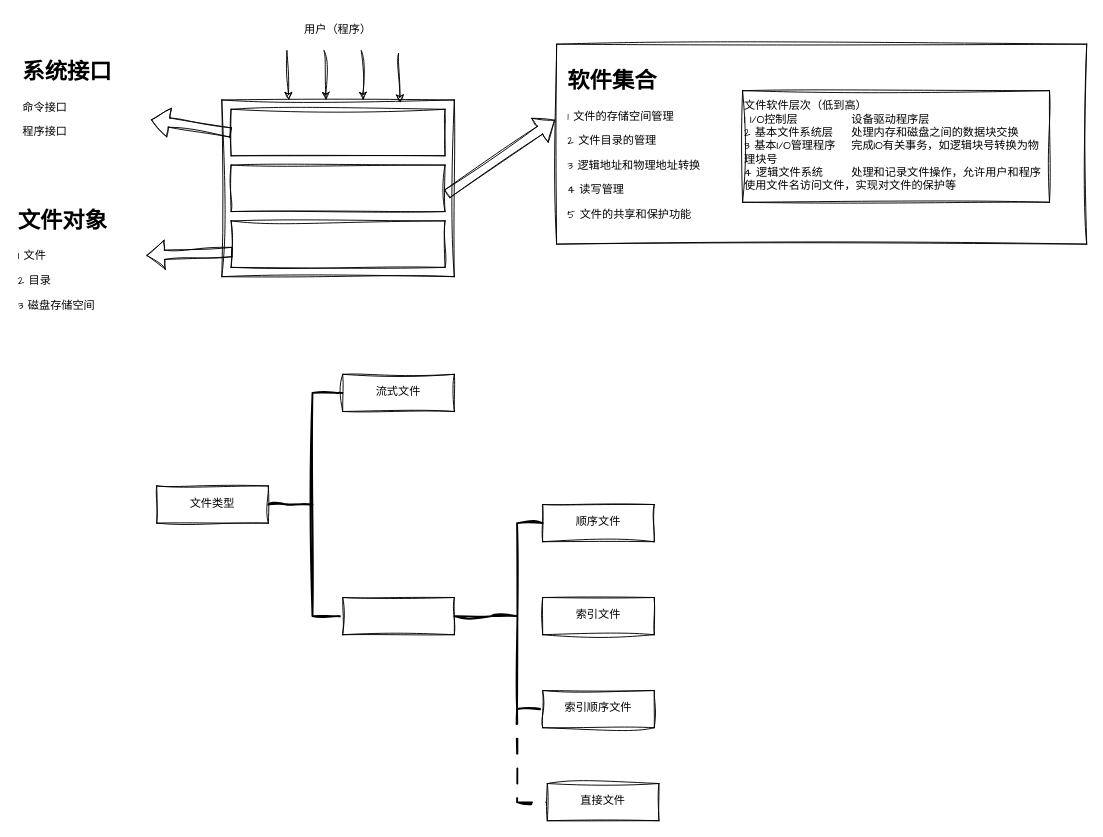
This 1103x837 diagram has some shape labels left out. The centre of each missing label's shape, as x and y in pixels:
对象及其属性: [337,243]
对象操作和管理的软件集合: [337,188]
文件系统接口: [337,132]
记录式文件: [398,616]
